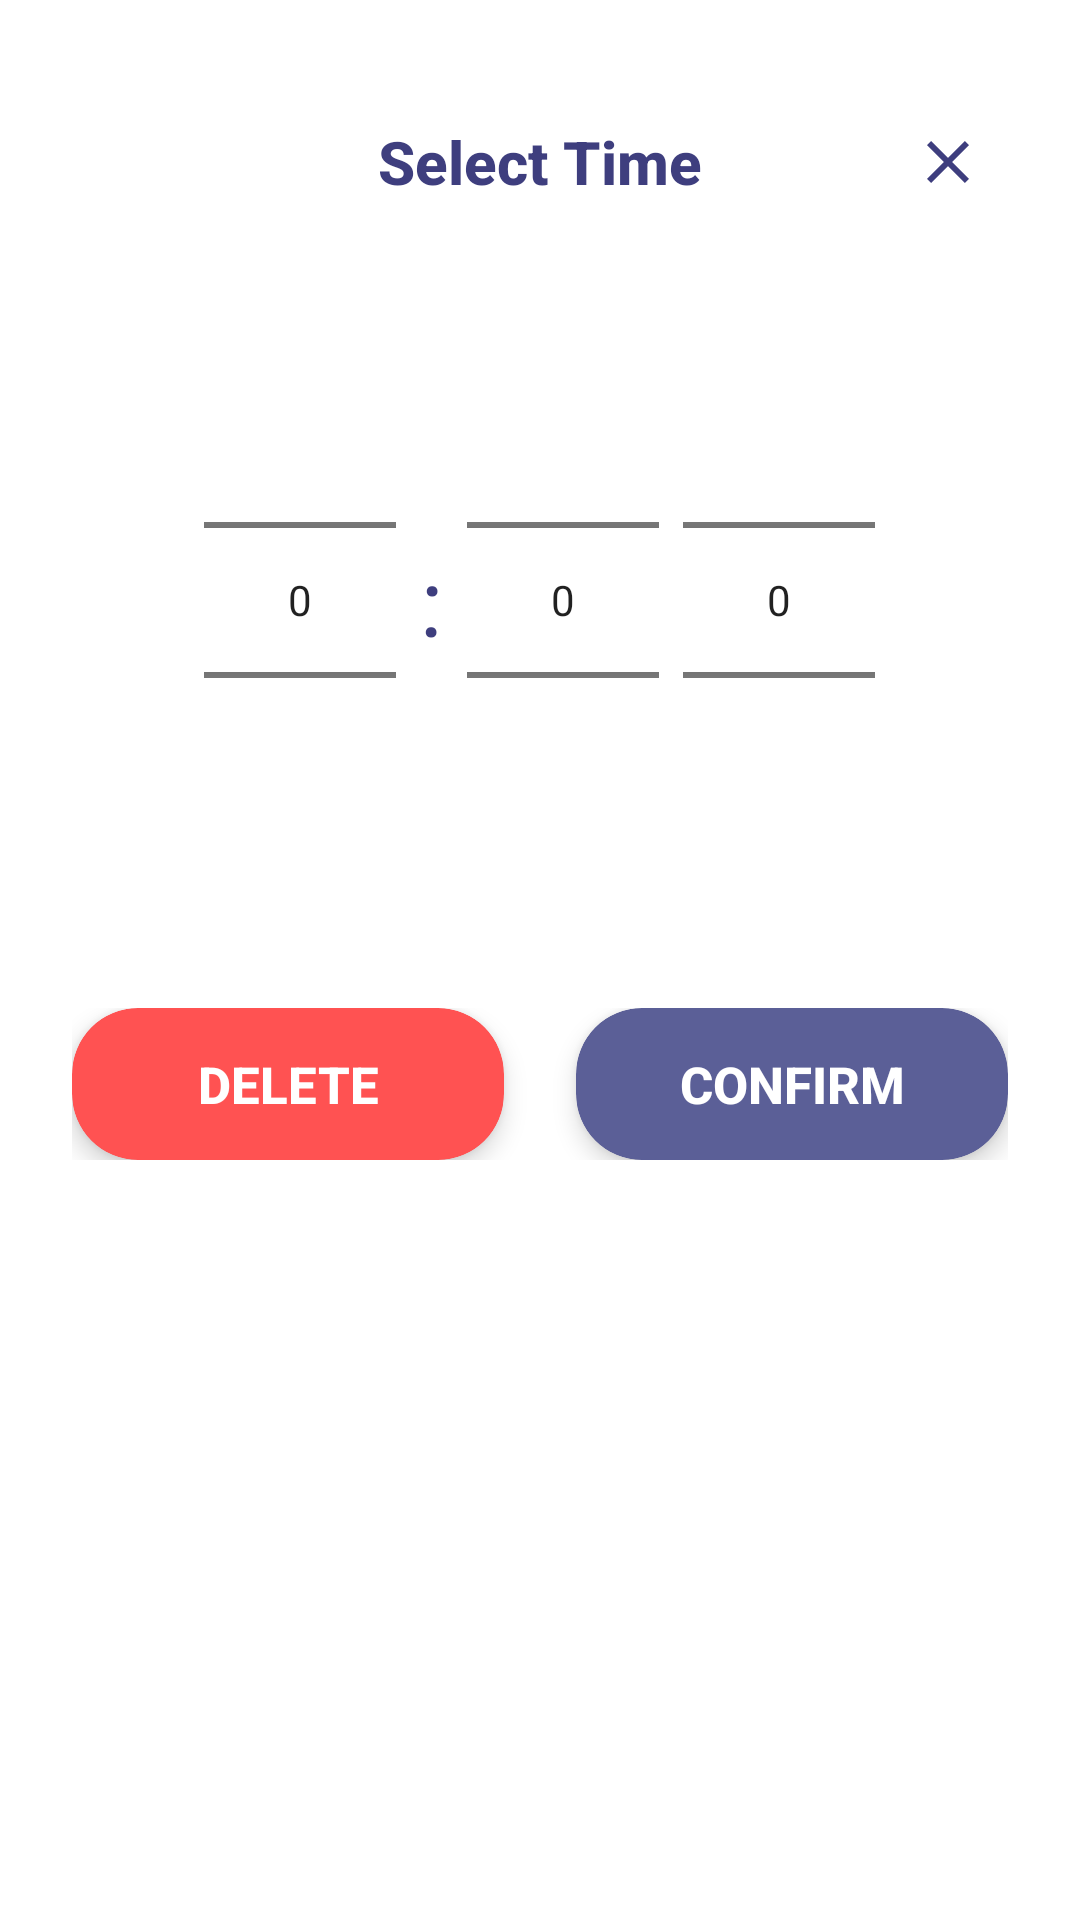

Screen size 1080 × 1920. Icon name, then its box in pixels as [x1=x1, y1=y1, x2=x2, y2=y2]:
Close: [x1=927, y1=141, x2=969, y2=183]
